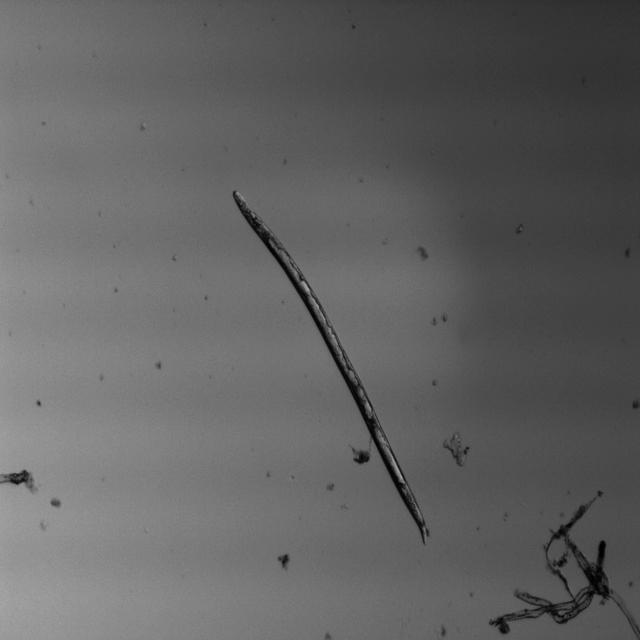Radopholus: (224, 182, 434, 556)
